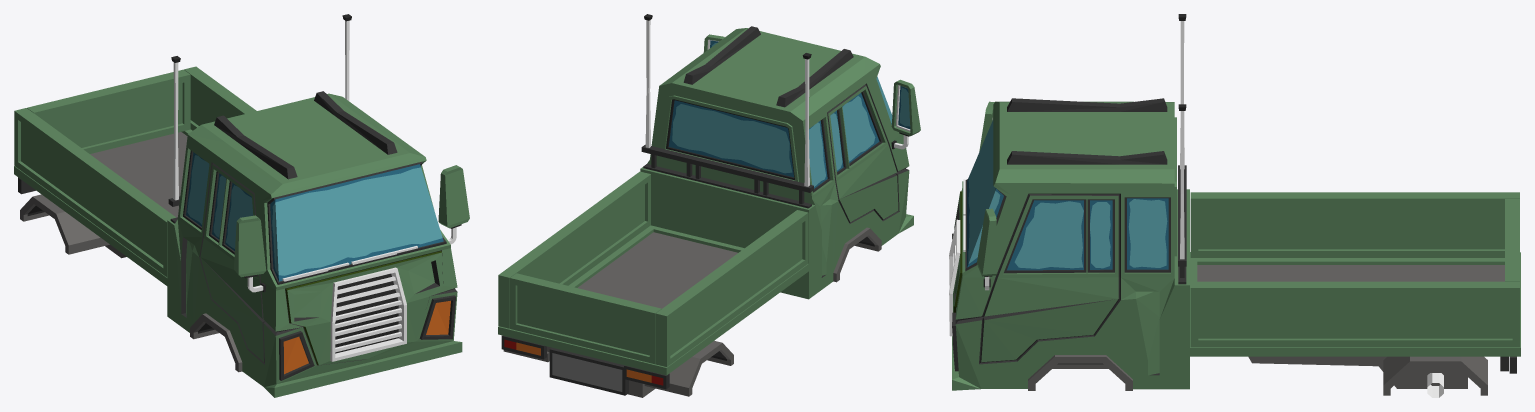
Rendered from Car_B_03.FBX.
The picture shows the model from 3 angles, left to right: view 1: azimuth 30°, elevation 25°; view 2: azimuth 150°, elevation 25°; view 3: azimuth 270°, elevation 25°; orthographic projection. The views are drawn at different scales.
Parts seen in each view (by area): view 1: Car_B_03; view 2: Car_B_03; view 3: Car_B_03.
Boxes of the visible parts, x1,y1,x2,y2 form: Car_B_03: (14, 14, 469, 397); Car_B_03: (498, 14, 920, 397); Car_B_03: (949, 14, 1520, 397).
Size of the model in its own units: 3.82 by 4.48 by 7.57.
